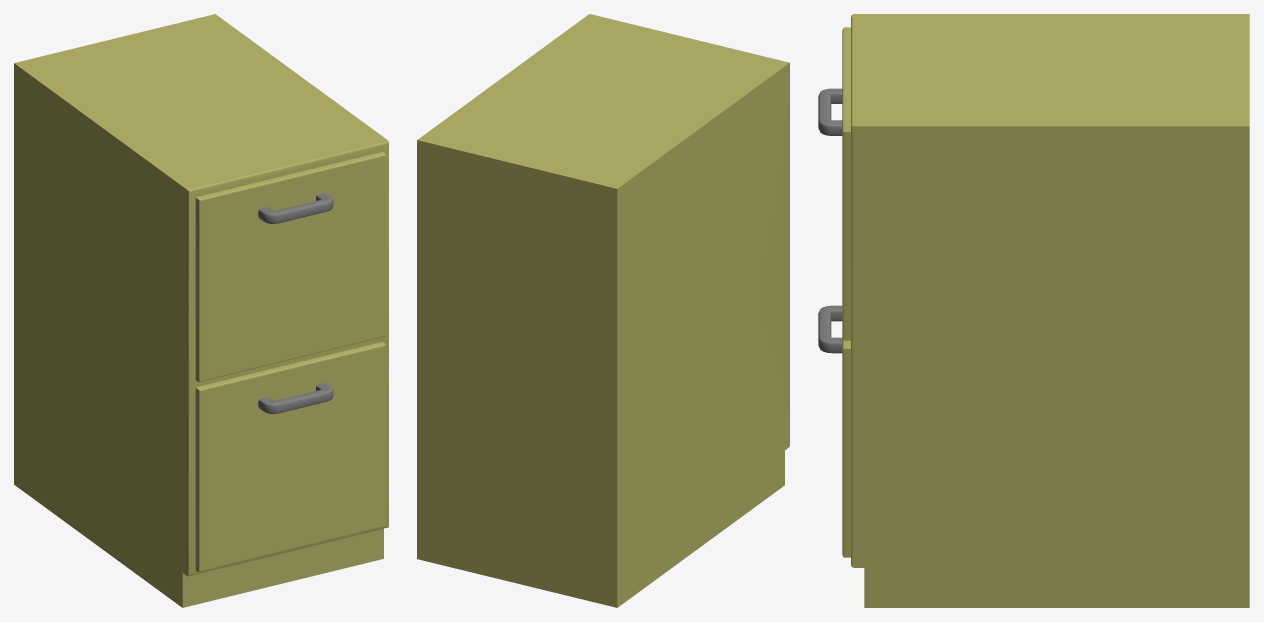
File: FIlingCabnet.fbx
3 renders of one model, left to right at view 1: azimuth 30°, elevation 25°; view 2: azimuth 150°, elevation 25°; view 3: azimuth 270°, elevation 25°, orthographic. The views are drawn at different scales.
Parts seen in each view (by area): view 1: Cabinet, Drawer_Door_Bottom, Drawer_Door_Top, Drawer_Handle_Top, Drawer_Handle_Bottom; view 2: Cabinet; view 3: Cabinet, Drawer_Door_Top, Drawer_Door_Bottom, Drawer_Handle_Bottom, Drawer_Handle_Top.
Part boxes in pixels (box(x1,y1,x2,y2)): Cabinet: box(14, 14, 388, 607); Drawer_Door_Bottom: box(195, 341, 385, 571); Drawer_Door_Top: box(195, 151, 385, 381); Drawer_Handle_Top: box(258, 193, 333, 223); Drawer_Handle_Bottom: box(258, 383, 333, 413); Cabinet: box(417, 14, 789, 607); Cabinet: box(851, 14, 1249, 607); Drawer_Door_Top: box(842, 27, 850, 340); Drawer_Door_Bottom: box(842, 338, 850, 557); Drawer_Handle_Bottom: box(818, 305, 842, 353); Drawer_Handle_Top: box(818, 88, 842, 135).
Size of the model in its own units: 0.4435 by 0.887 by 0.7196.
